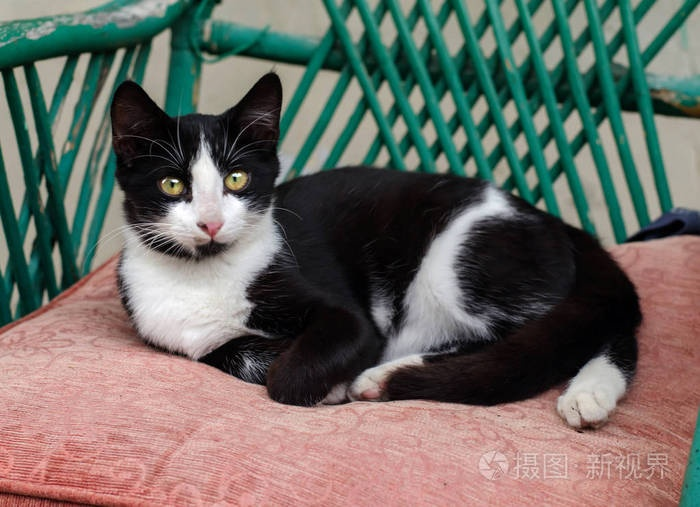cat: (108, 70, 644, 432)
